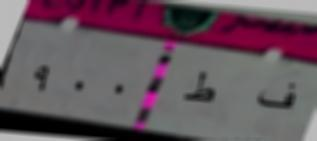0: (106, 76, 135, 108), (65, 72, 94, 98)
9: (25, 58, 55, 100)
Taa: (177, 67, 219, 115)
faa: (251, 76, 300, 116)
